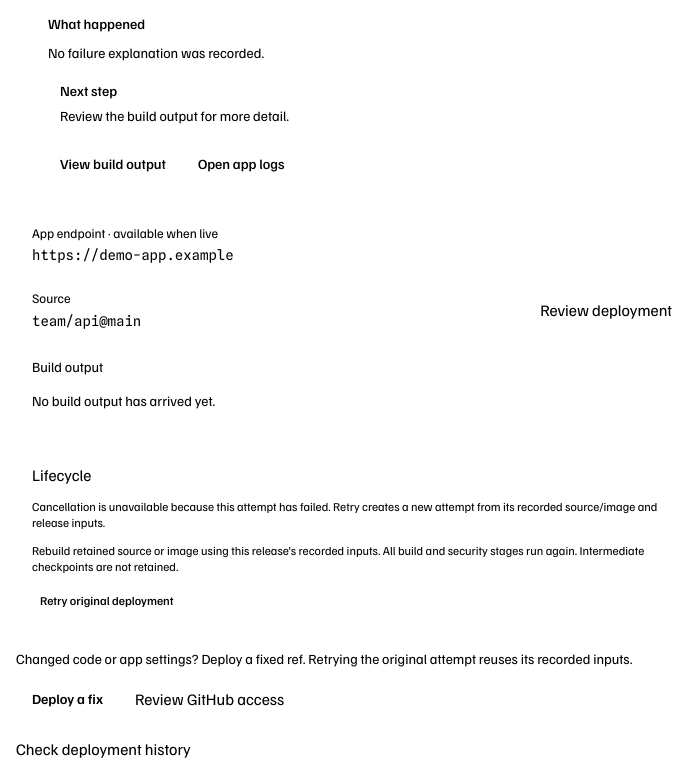
Test: NewAppWizard Git submission › does not follow an invalid fixed-ref response {"id":"not-an-id","app_id":"app-1"}
This screenshot has width=689, height=761.
(page scrolled)
Click the button "Deploy a fix" at [67, 698], box 16,680 -> 119,716
(page scrolled)
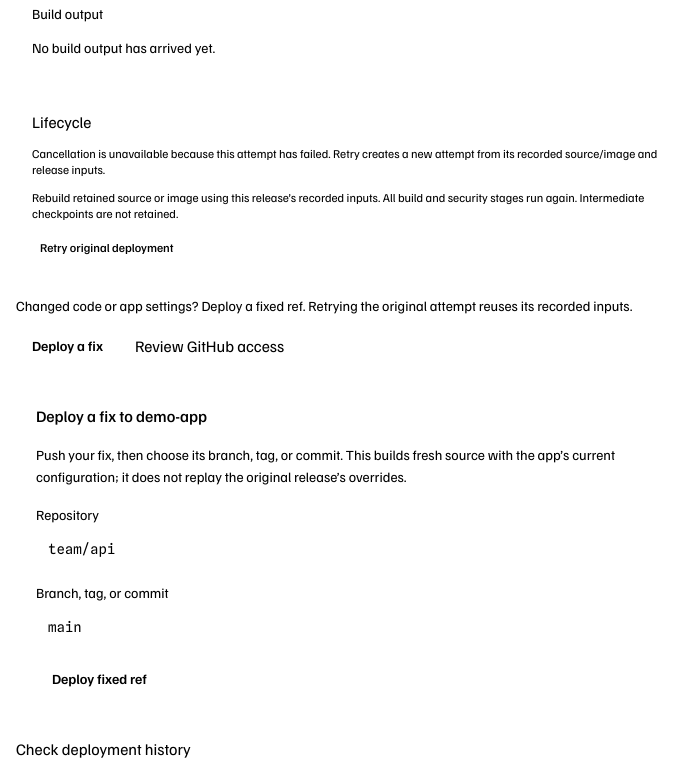
Click the button "Deploy fixed ref" at [99, 679], box 36,661 -> 163,697
(page scrolled)
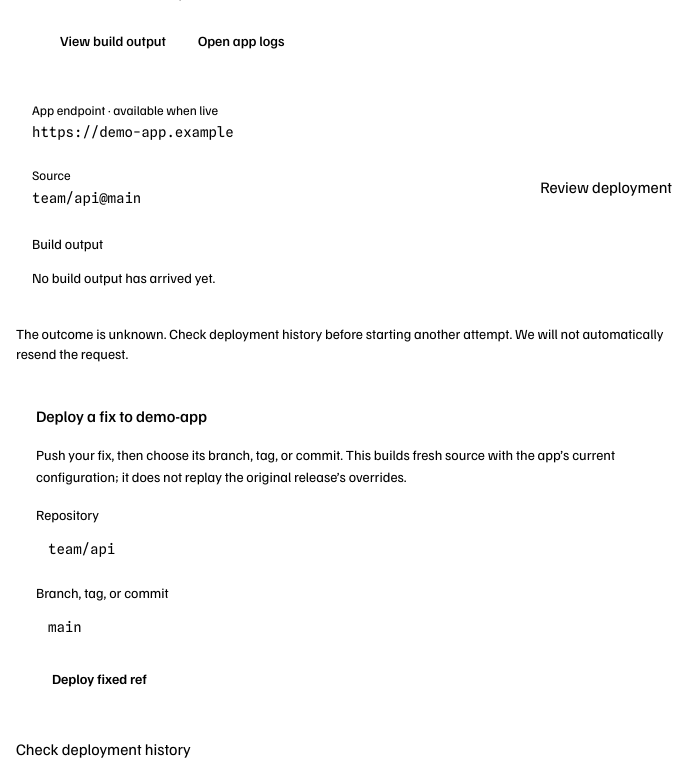
Expected: the text "outcome is unknown" is shown, 16,324 -> 663,362
